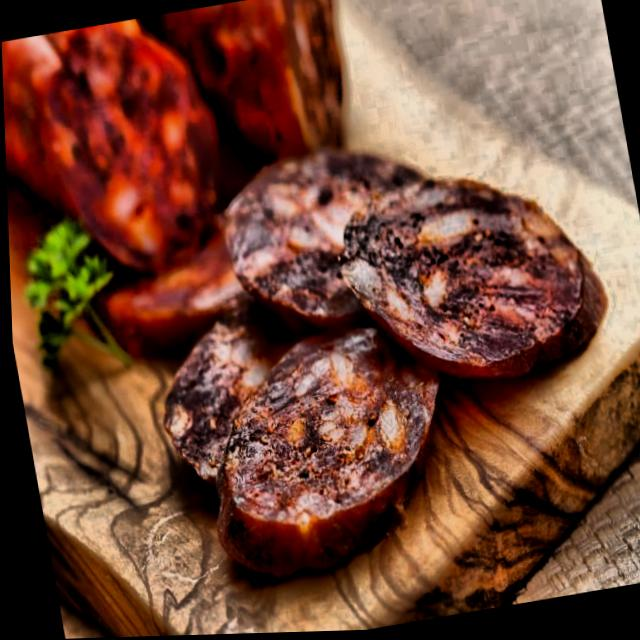Food: (74, 78, 640, 612)
